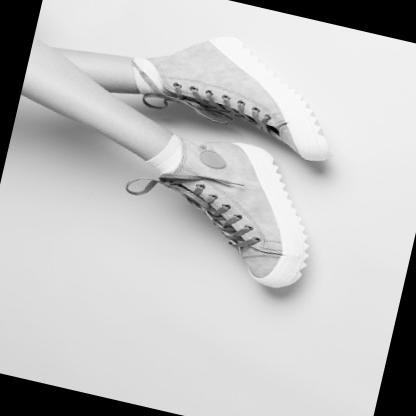ankle: (170, 65, 176, 69)
heel: (213, 43, 217, 46), (222, 144, 225, 147)
left_foot: (138, 128, 326, 291)
pinky: (280, 255, 286, 259), (293, 148, 297, 151)
right_foot: (150, 24, 344, 161)
toe: (252, 269, 258, 272), (300, 138, 303, 141)
